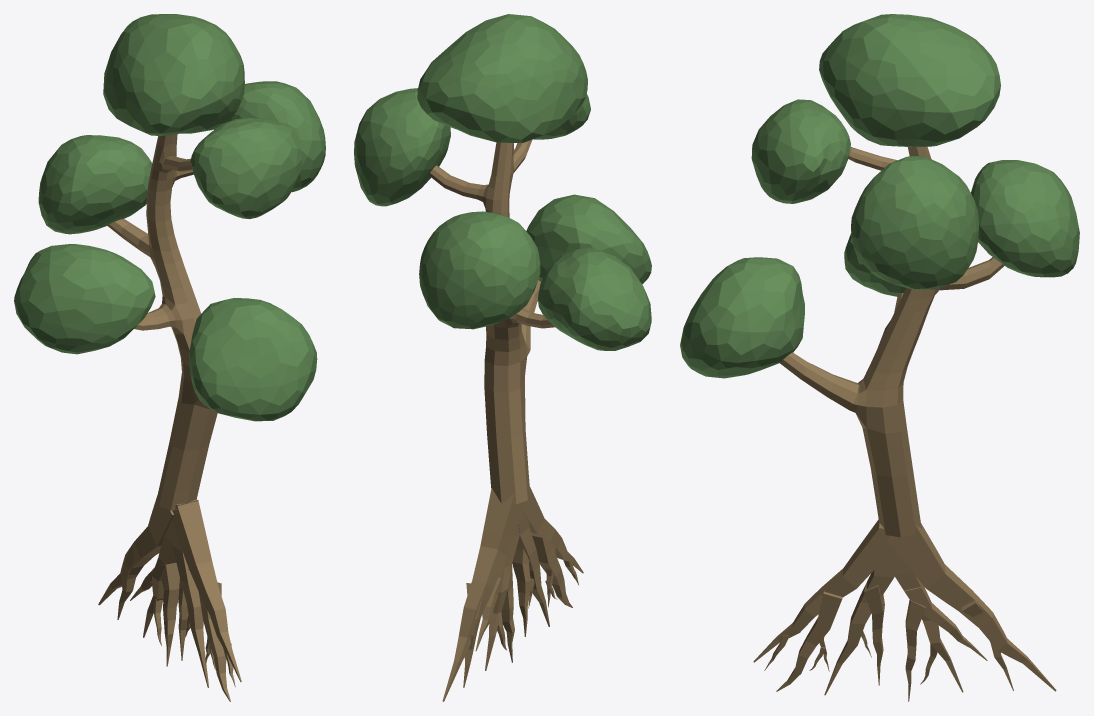
The model's file is tree_small.glb.
The picture shows the model from 3 angles, left to right: view 1: azimuth 30°, elevation 25°; view 2: azimuth 150°, elevation 25°; view 3: azimuth 270°, elevation 25°; orthographic projection. The views are drawn at different scales.
Visible parts, largest first — view 1: Icosphere.071, Leaves9, Icosphere.069, Trunk.003, Leaves10, Leaves11, Icosphere.070, Cube.052, Cube.051, Cube.050, Cube.042, Cube.048 (+4 smaller); view 2: Icosphere.071, Leaves10, Trunk.003, Icosphere.069, Icosphere.070, Leaves9, Cube.051, Cube.052, Cube.050, Cube.048, Cube.044, Cube.049 (+4 smaller); view 3: Icosphere.071, Icosphere.070, Leaves9, Trunk.003, Leaves10, Leaves11, Cube.051, Cube.052, Cube.050, Branch9, Cube.044, Cube.048 (+5 smaller).
Part boxes in pixels (x1,y1,x2,y2): Icosphere.071: (103, 14, 244, 135); Leaves9: (189, 298, 317, 421); Icosphere.069: (14, 244, 155, 354); Trunk.003: (134, 134, 217, 510); Leaves10: (38, 135, 152, 234); Leaves11: (190, 118, 302, 219); Icosphere.070: (213, 81, 325, 192); Cube.052: (171, 501, 241, 681); Cube.051: (98, 496, 174, 605); Cube.050: (169, 508, 208, 687); Cube.042: (159, 562, 179, 666); Cube.048: (143, 499, 198, 637); Icosphere.071: (417, 14, 587, 142); Leaves10: (419, 211, 540, 329); Trunk.003: (429, 142, 554, 504); Icosphere.069: (538, 248, 651, 350); Icosphere.070: (354, 88, 450, 206); Leaves9: (526, 194, 651, 284); Cube.051: (442, 488, 526, 701); Cube.052: (523, 486, 583, 573); Cube.050: (516, 512, 549, 626); Cube.048: (485, 525, 519, 670); Cube.044: (532, 535, 572, 607); Cube.049: (512, 548, 530, 636); Icosphere.071: (819, 14, 1000, 147); Icosphere.070: (851, 156, 978, 289); Leaves9: (680, 257, 804, 378); Trunk.003: (849, 146, 940, 537); Leaves10: (971, 160, 1079, 277); Leaves11: (751, 99, 850, 203); Cube.051: (887, 523, 1056, 691); Cube.052: (753, 519, 893, 662); Cube.050: (824, 532, 900, 695); Branch9: (779, 352, 858, 410); Cube.044: (776, 591, 842, 691); Cube.048: (879, 523, 963, 692).
Size of the model in its own units: 5.95 by 12.63 by 6.66.
